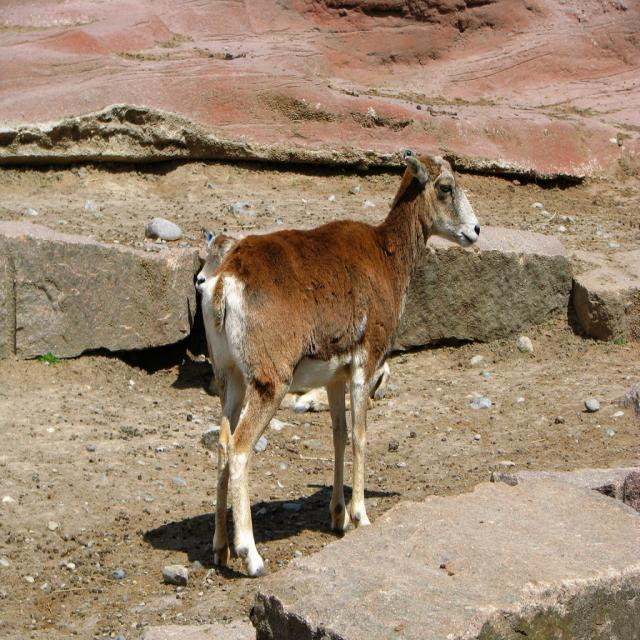Goat: (192, 157, 456, 582)
